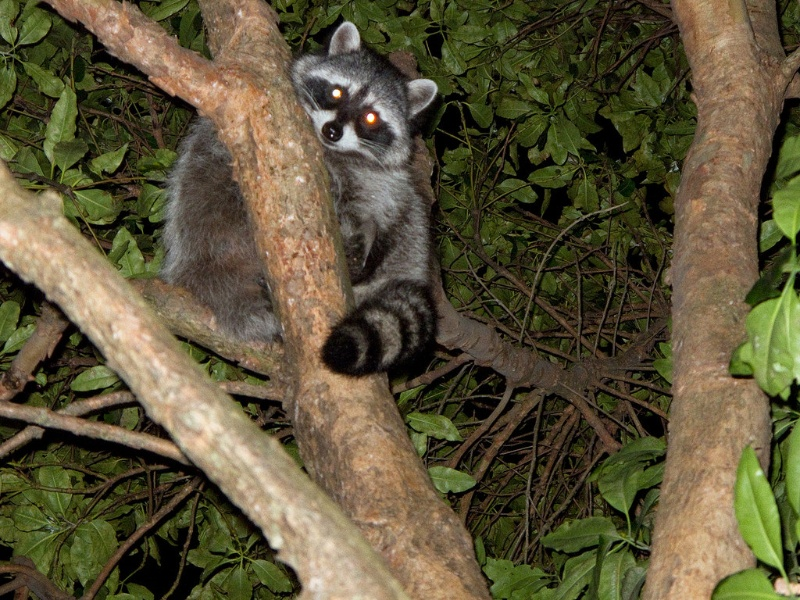raccoon: (168, 22, 446, 374)
